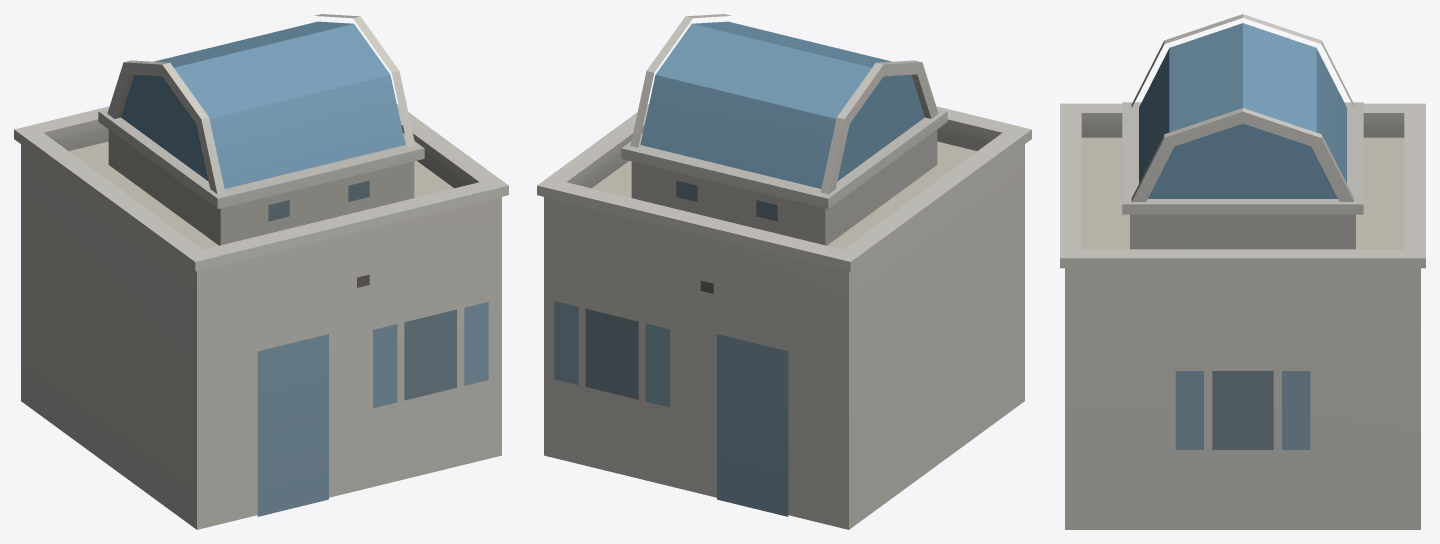
Rendered from dome1.lod2.glb.
The picture shows the model from 3 angles, left to right: view 1: azimuth 30°, elevation 25°; view 2: azimuth 150°, elevation 25°; view 3: azimuth 270°, elevation 25°; orthographic projection.
Size of the model in its own units: 4.4 by 5.2 by 4.4.
